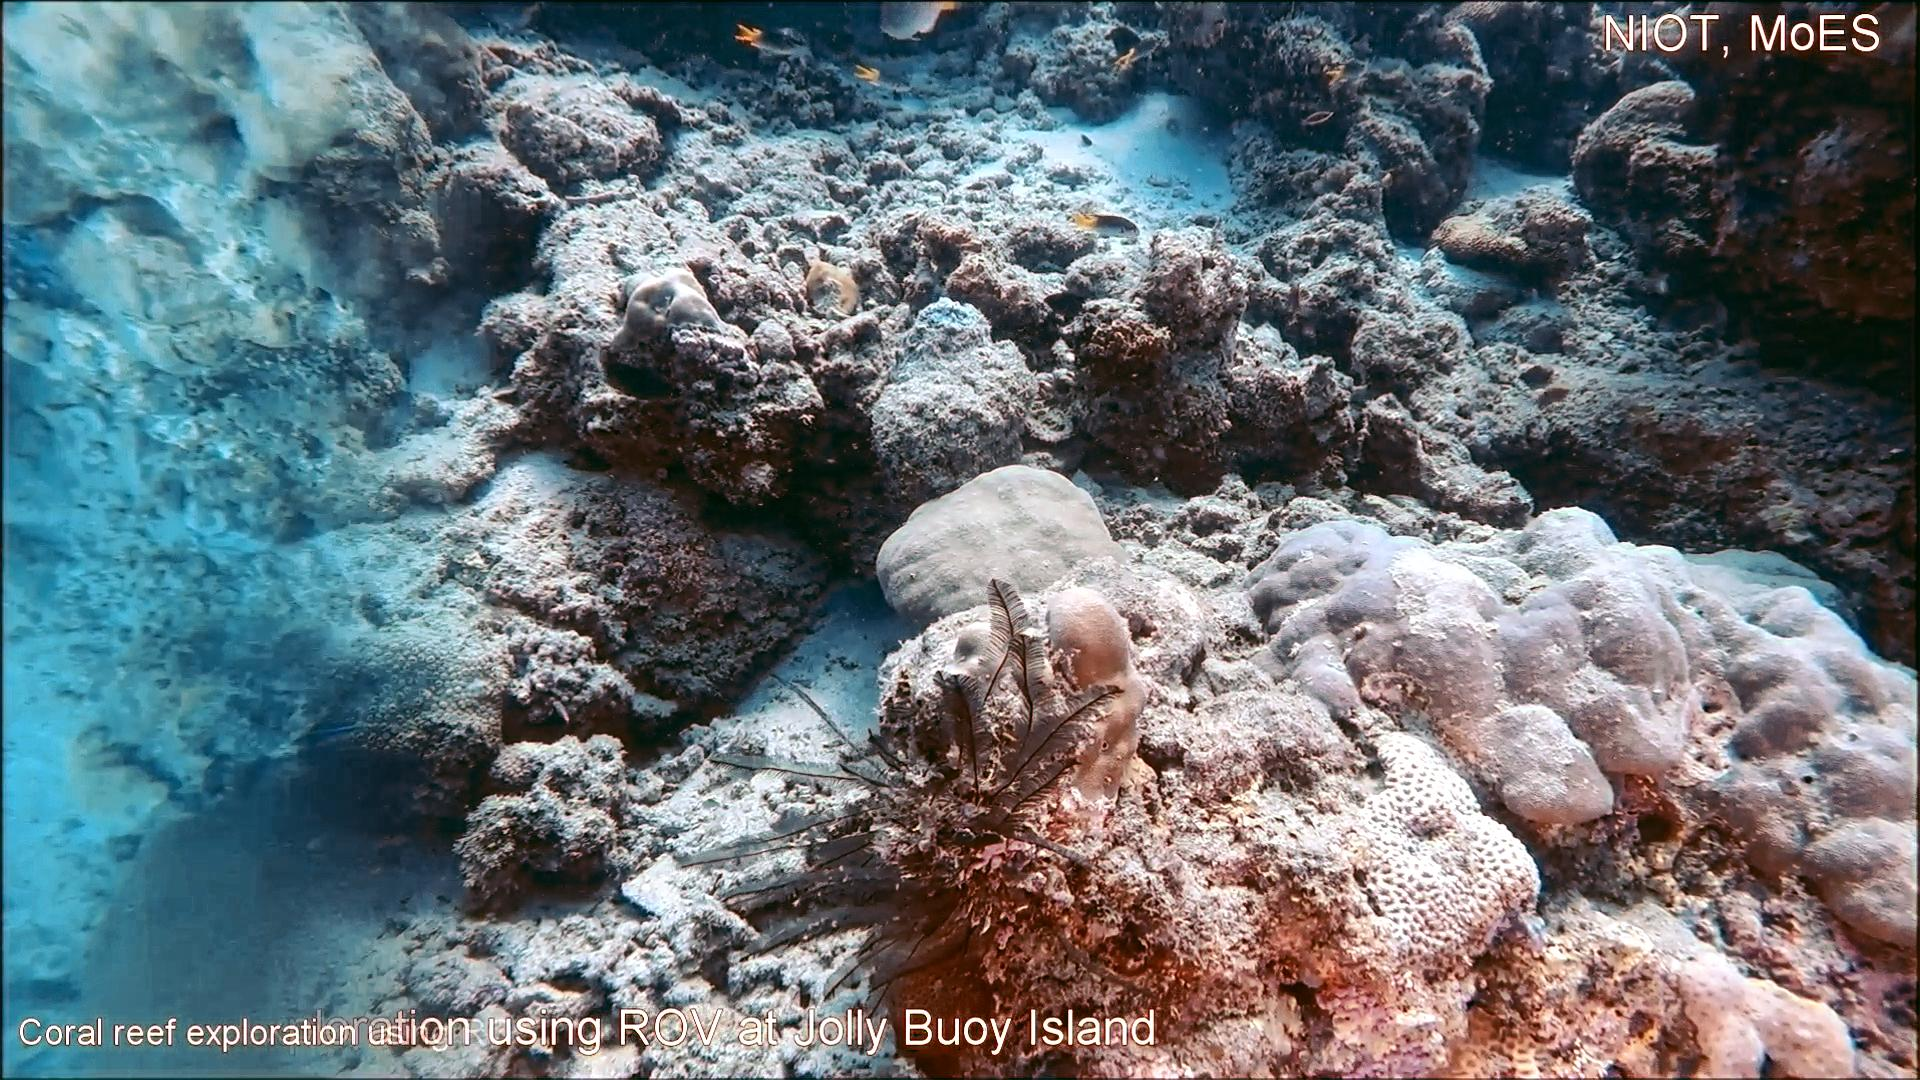Feather star-Crinoid star: (665, 568, 1126, 1060)
Goniastrea-Goniastrea pectinata: (1296, 720, 1553, 984)
Porites-Porites pukoensis: (1582, 496, 1920, 959)
